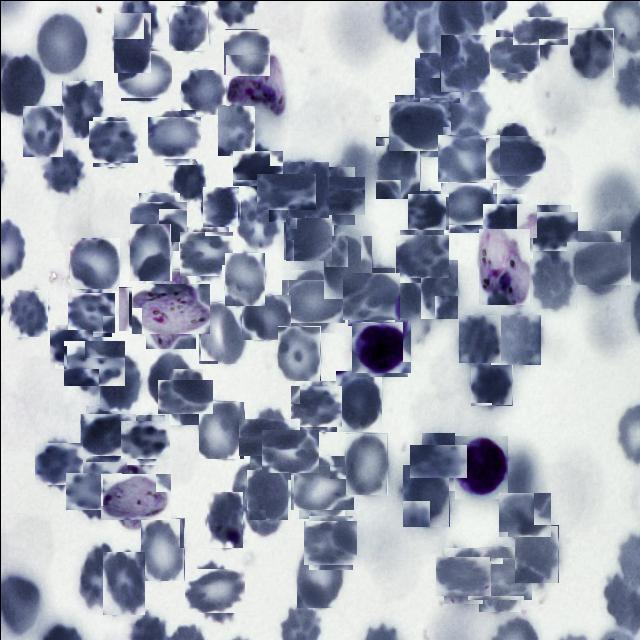leukocyte: (454, 435, 507, 498), (352, 319, 408, 374)
red blood cell: (391, 97, 447, 153), (323, 234, 372, 298), (441, 130, 496, 185), (294, 459, 348, 514), (402, 463, 449, 526), (484, 128, 538, 182), (571, 235, 625, 289), (472, 552, 526, 606), (296, 544, 342, 607), (198, 301, 244, 363), (438, 34, 488, 91), (67, 336, 120, 389), (335, 370, 381, 431), (36, 15, 86, 71), (375, 136, 420, 198), (140, 517, 184, 580), (286, 274, 338, 327), (188, 564, 240, 616), (344, 270, 396, 322), (198, 400, 244, 458), (69, 237, 119, 290), (102, 551, 144, 614), (345, 432, 387, 494), (532, 249, 576, 308), (514, 524, 558, 582), (119, 48, 170, 98), (147, 352, 192, 408), (82, 408, 132, 458), (264, 426, 314, 476), (490, 314, 540, 364), (443, 179, 493, 228), (243, 412, 293, 461), (128, 222, 170, 280), (182, 228, 230, 278), (396, 232, 446, 280), (277, 325, 320, 380), (134, 197, 182, 246), (284, 211, 332, 260), (310, 171, 359, 219), (61, 80, 102, 137), (113, 11, 151, 72), (150, 113, 198, 161), (79, 542, 115, 606), (306, 518, 354, 566), (262, 167, 310, 215), (99, 354, 140, 410), (287, 161, 328, 217), (420, 258, 458, 318), (526, 207, 573, 255), (439, 552, 486, 600), (500, 491, 548, 538), (70, 467, 117, 514), (241, 294, 290, 339), (569, 28, 613, 78), (246, 468, 288, 519), (224, 252, 264, 305), (292, 382, 338, 428), (416, 54, 462, 100), (414, 438, 460, 484), (223, 29, 270, 74), (237, 196, 277, 248), (180, 70, 225, 116), (35, 441, 81, 486), (90, 119, 136, 164), (22, 105, 62, 156), (162, 374, 208, 418), (206, 491, 242, 547), (458, 314, 500, 362), (492, 32, 536, 76), (69, 290, 113, 334), (122, 417, 166, 461), (487, 198, 531, 242), (470, 360, 512, 405), (42, 146, 82, 193), (217, 105, 254, 155), (236, 145, 278, 189), (168, 4, 208, 50), (9, 290, 47, 338), (519, 9, 561, 51), (118, 286, 156, 330), (51, 326, 90, 366), (408, 192, 448, 231), (201, 188, 239, 225), (170, 160, 204, 201)
ring: (138, 276, 202, 341), (106, 468, 164, 526)
trophozoite: (478, 228, 529, 304), (225, 54, 284, 112)
